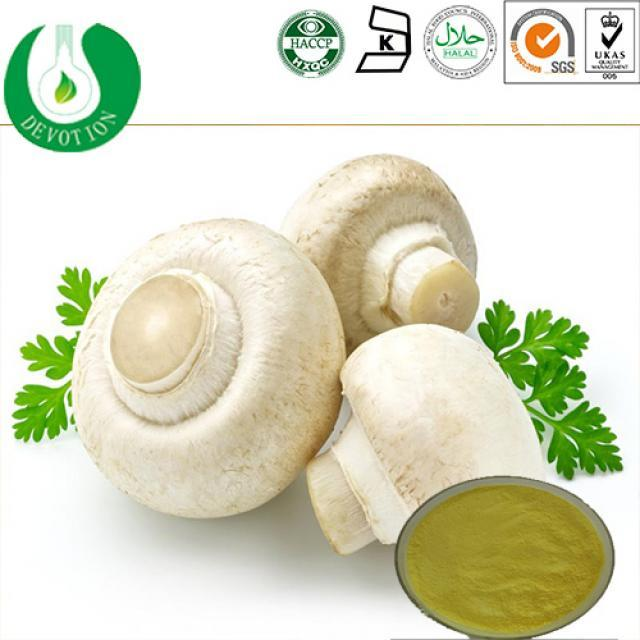Agaricus bisporus: (73, 211, 344, 523), (302, 325, 581, 557), (280, 148, 509, 334)
